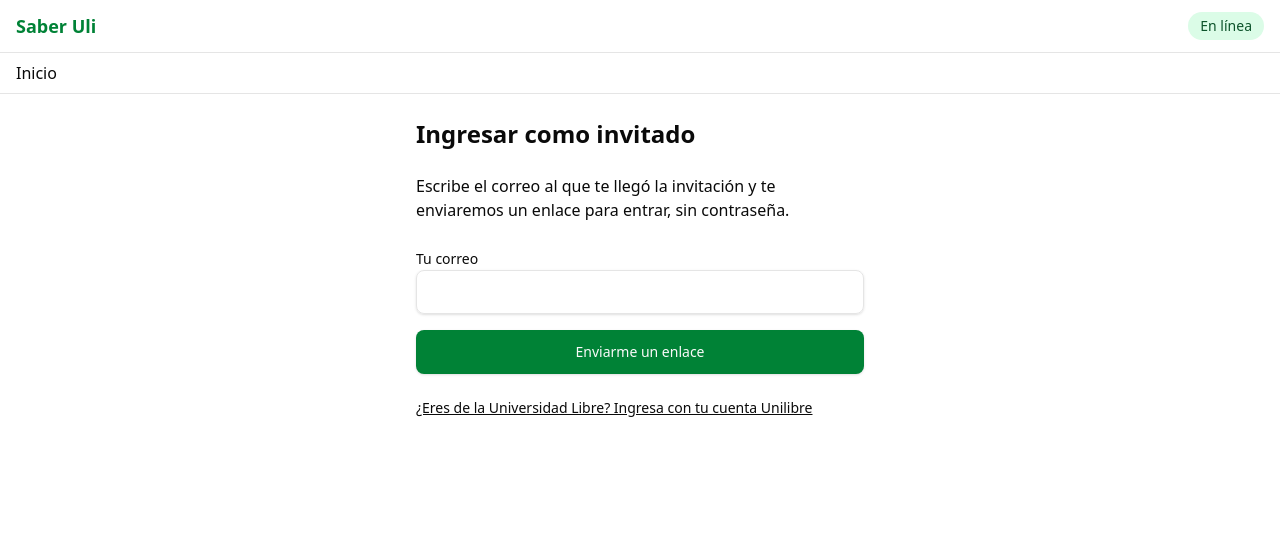
Test: pedir un enlace de ingreso › avisa cuando hay demasiadas solicitudes
The image size is (1280, 540).
Step 1. Type "laura@correo.co" into the field labelled "Tu correo" → (640, 292), box left=416, top=270, right=864, bottom=314
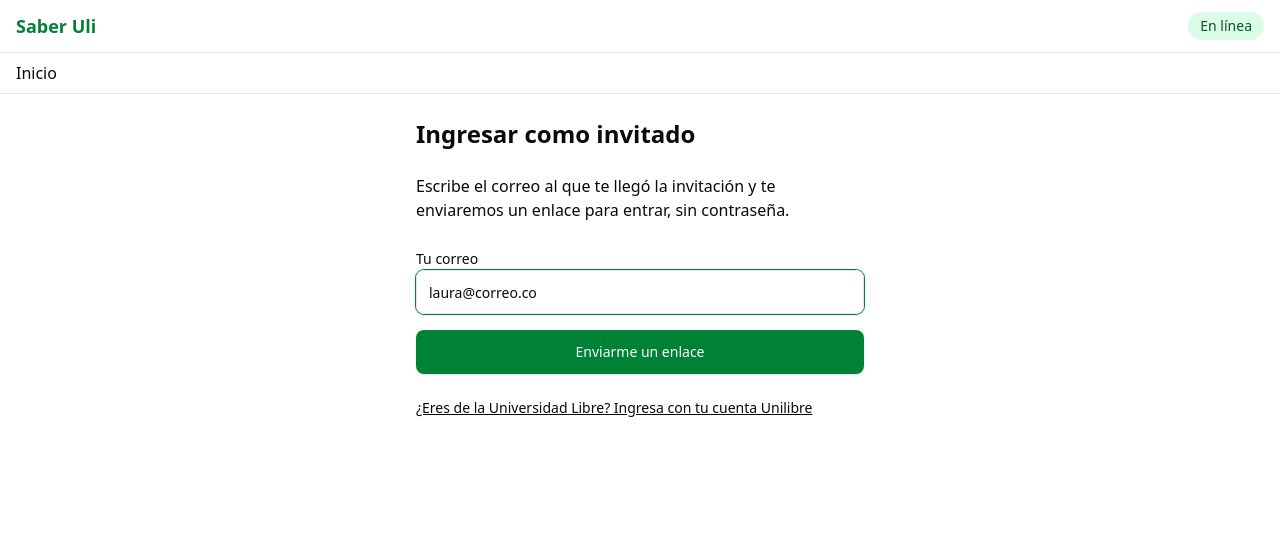
Step 2. Click the button "Enviarme un enlace" → (640, 352), box left=416, top=330, right=864, bottom=374
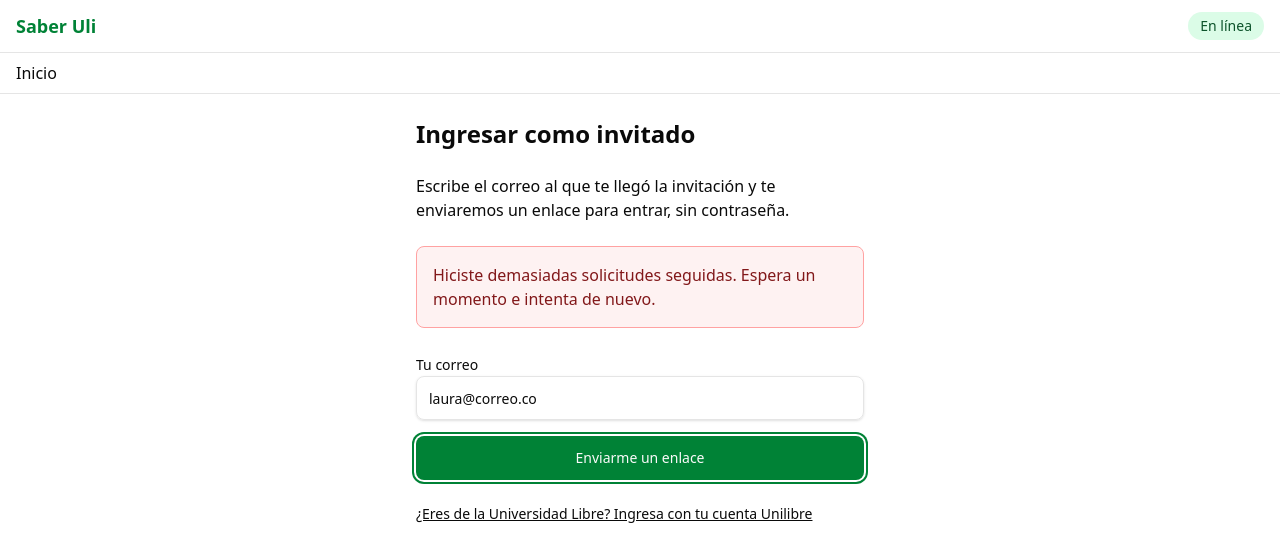
Expected: the message "Hiciste demasiadas solicitudes seguidas. Espera un momento e intenta de nuevo." is shown, left=416, top=246, right=864, bottom=328
